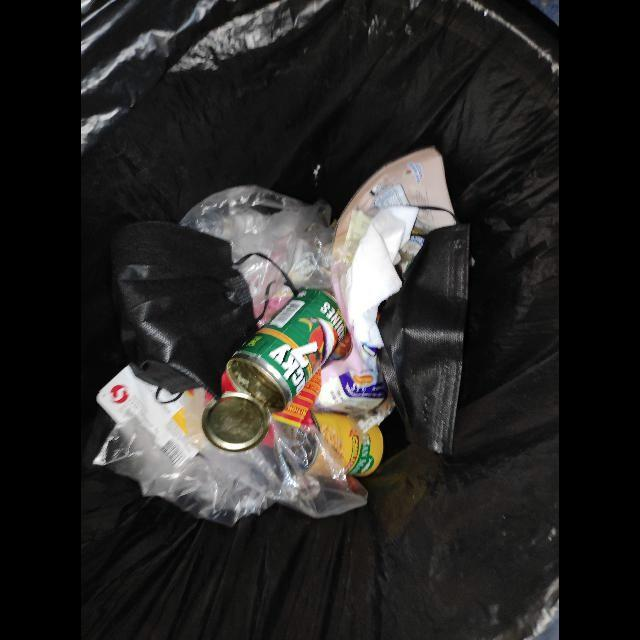aluminum: (202, 289, 352, 453)
